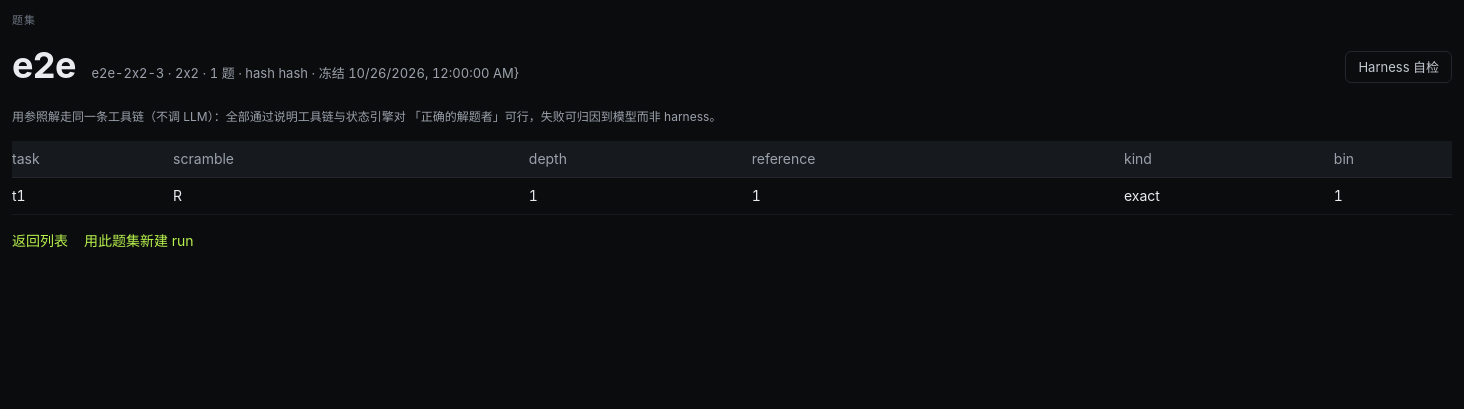
Test case: BenchmarkDetailView selfcheck › 自检通过显示成功横幅与逐题结果
The image size is (1464, 409).
Click the button with test id "selfcheck-button": [1399, 67] box x1=1346 y1=51 x2=1452 y2=83
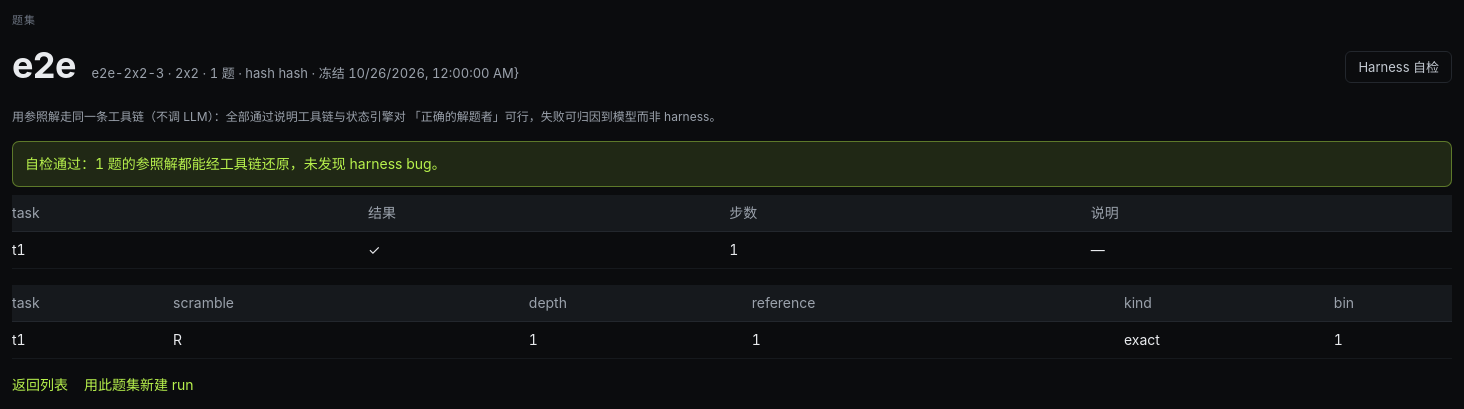
Now the element with test id "selfcheck-result" shows "自检通过", box x1=25 y1=155 x2=446 y2=172
Now the row with test id "selfcheck-row" shows "t1", box x1=12 y1=241 x2=26 y2=258
